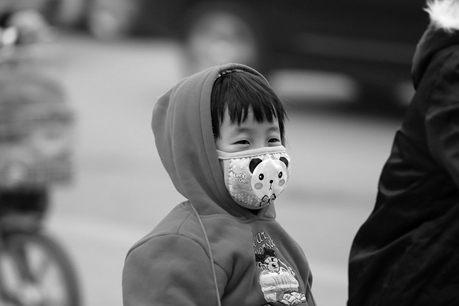face_mask: (203, 105, 290, 194)
